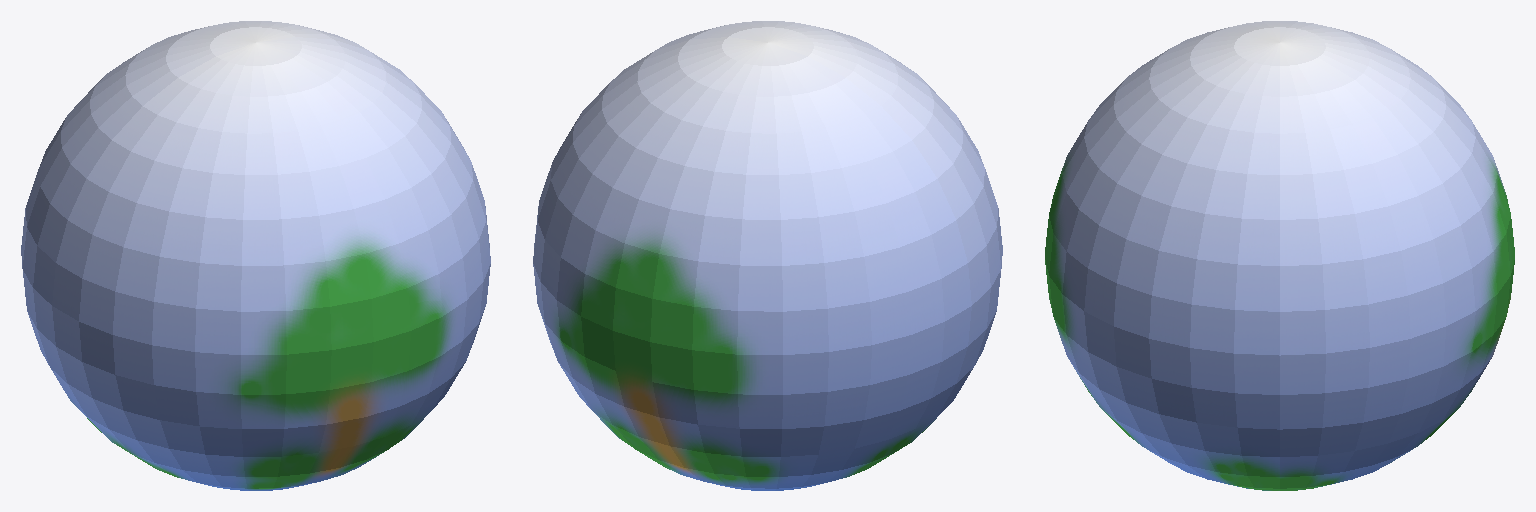
3 renders of one model, left to right at view 1: azimuth 30°, elevation 25°; view 2: azimuth 150°, elevation 25°; view 3: azimuth 270°, elevation 25°, orthographic.
Parts seen in each view (by area): view 1: 球; view 2: 球; view 3: 球.
Part boxes in pixels (left/top/right/bottom): 球: left=21, top=21, right=490, bottom=490; 球: left=533, top=21, right=1002, bottom=490; 球: left=1045, top=21, right=1514, bottom=490.
Bounding box in the file's own units: 2 × 2 × 2.
Materials: 1 (1 with a texture image).